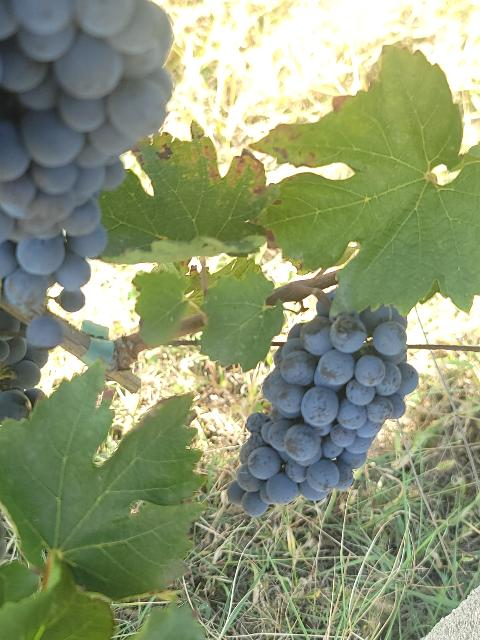grapes: (228, 291, 419, 516)
